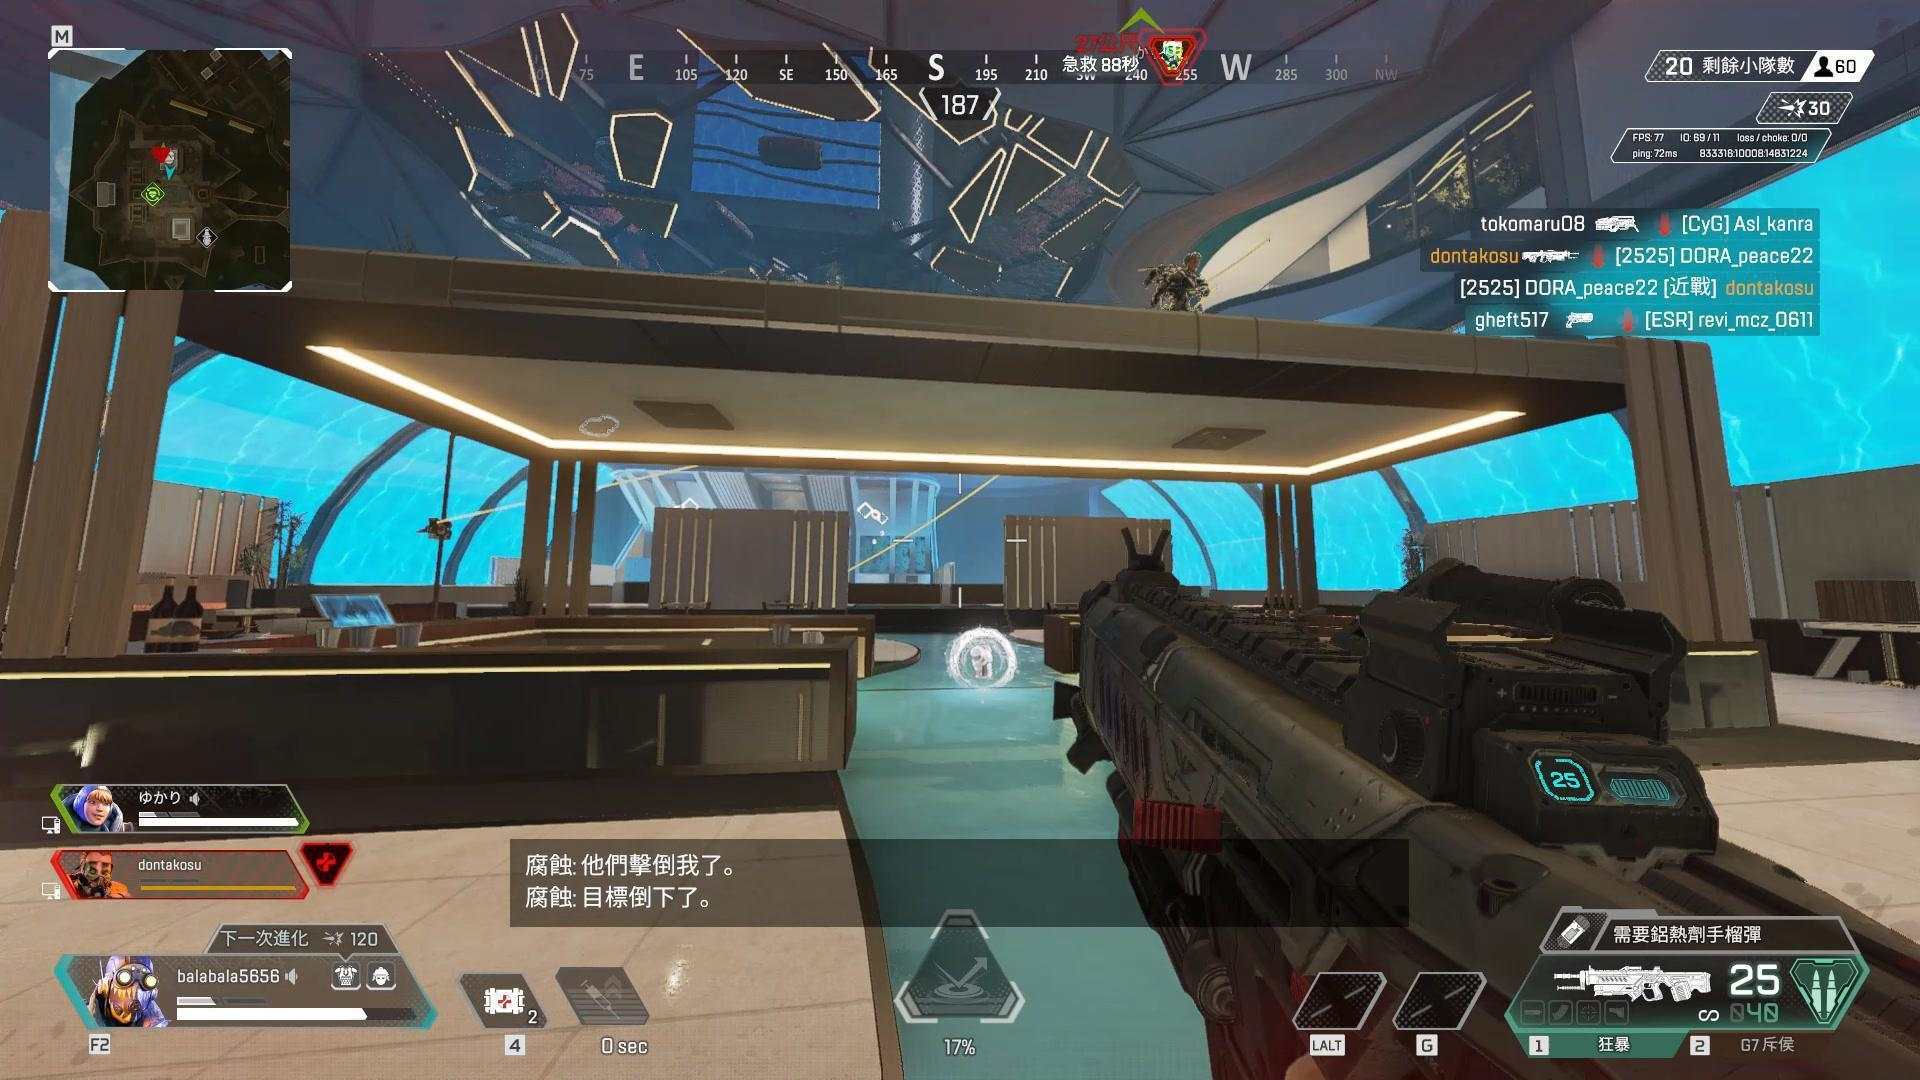avatar: (1146, 250, 1208, 313)
